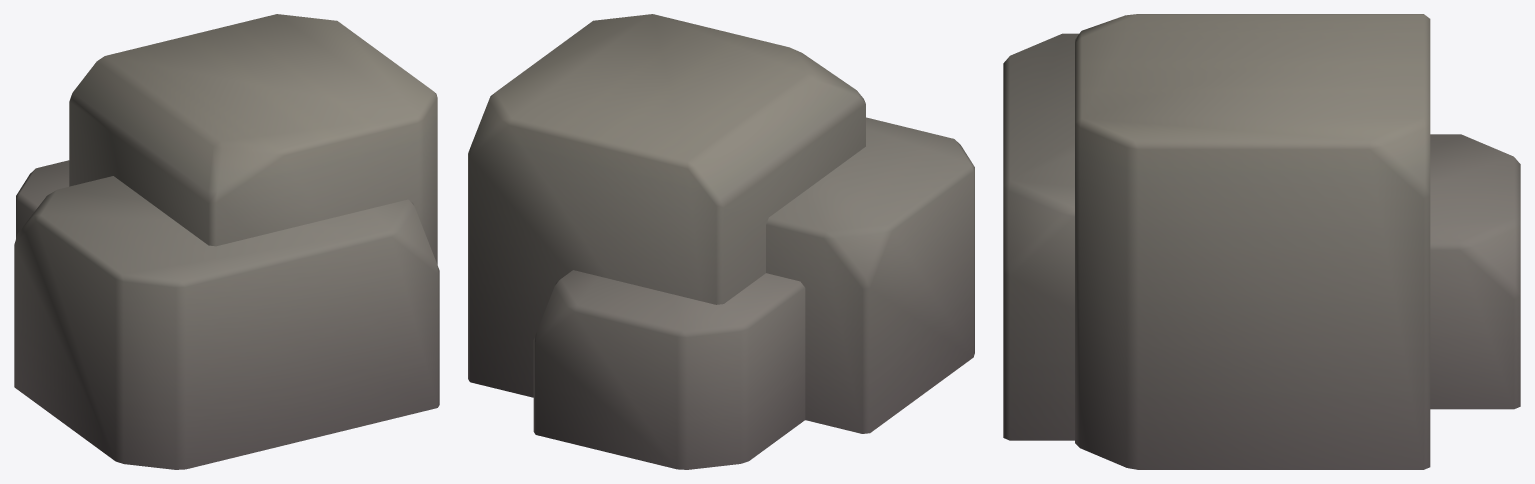
Rendered from rock2_bevel.fbx.
3 views of the same model, side by side, from view 1: azimuth 30°, elevation 25°; view 2: azimuth 150°, elevation 25°; view 3: azimuth 270°, elevation 25° (orthographic). The views are drawn at different scales.
Visible parts, largest first — view 1: rock2; view 2: rock2; view 3: rock2.
Part boxes in pixels (bbox=[...]): rock2: bbox=[14, 14, 439, 469]; rock2: bbox=[468, 14, 974, 469]; rock2: bbox=[1003, 14, 1520, 469].
Bounding box in the file's own units: 140 × 101 × 146.
